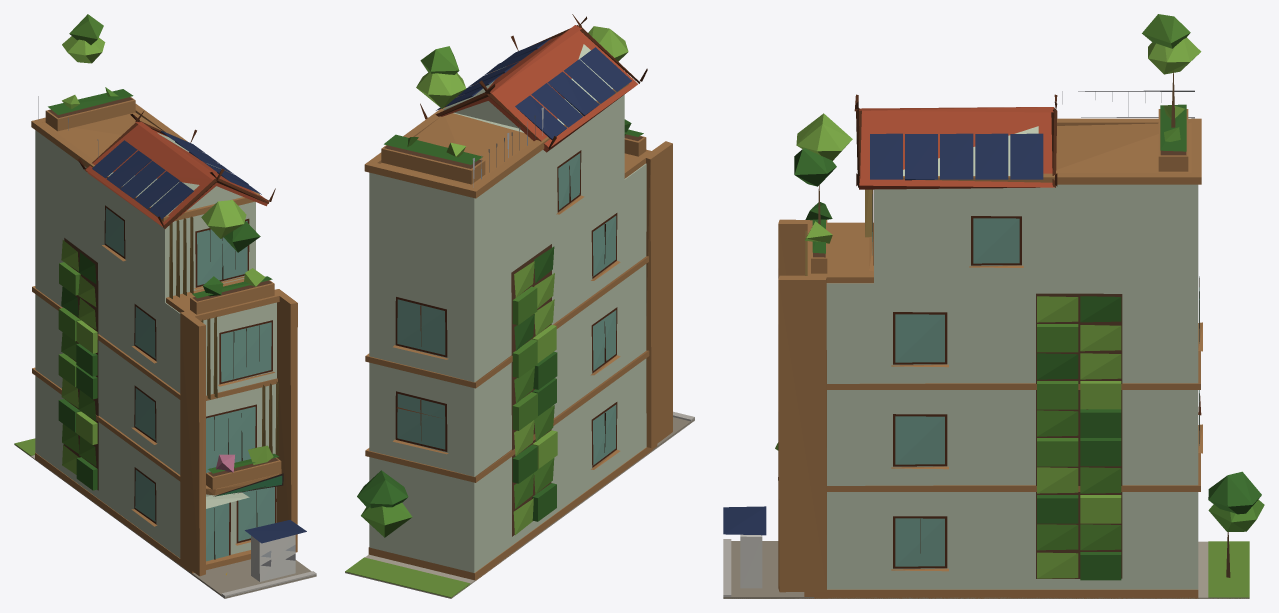
Rendered from bay2_one.glb.
The picture shows the model from 3 angles, left to right: view 1: azimuth 30°, elevation 25°; view 2: azimuth 150°, elevation 25°; view 3: azimuth 270°, elevation 25°; orthographic projection. The views are drawn at different scales.
Visible parts, largest first — view 1: body; view 2: body; view 3: body.
Boxes of the visible parts, <box> form: body: <box>14,14,316,598</box>; body: <box>345,14,694,598</box>; body: <box>723,14,1264,598</box>.
Size of the model in its own units: 5.19 by 18.43 by 16.36.
